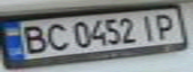0: (69, 18, 90, 48)
2: (118, 14, 139, 44)
4: (87, 17, 109, 47)
5: (103, 16, 124, 46)
B: (15, 22, 51, 55)
C: (39, 20, 72, 52)
I: (136, 11, 160, 42)
P: (151, 11, 178, 39)
